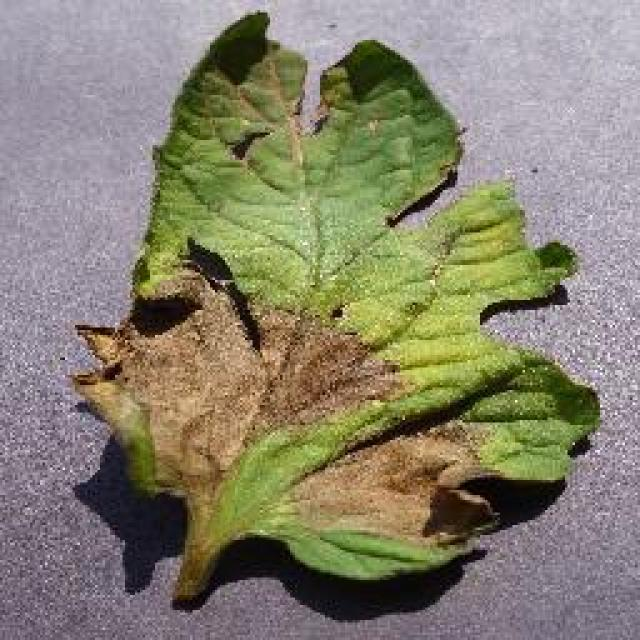Tomato___Late_blight: (70, 12, 602, 612)
